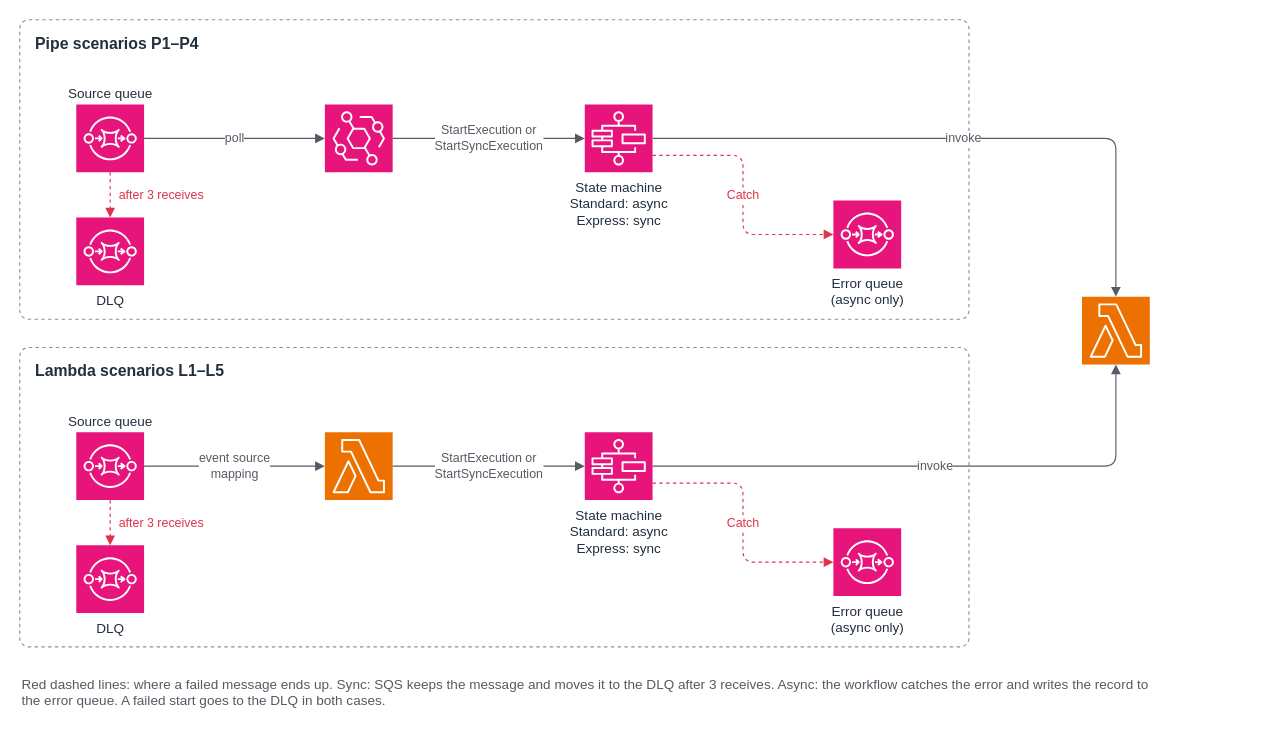
The diagram is 1272 pixels wide and 735 high, and some of its shapes have lost their labels. Here are the shapes that lost their labels. From the top down, the centre of each, then its label:
At (358,137): "EventBridge Pipe".
At (1115,329): "Worker Lambda (shared)".
At (358,465): "Dispatcher Lambda".
